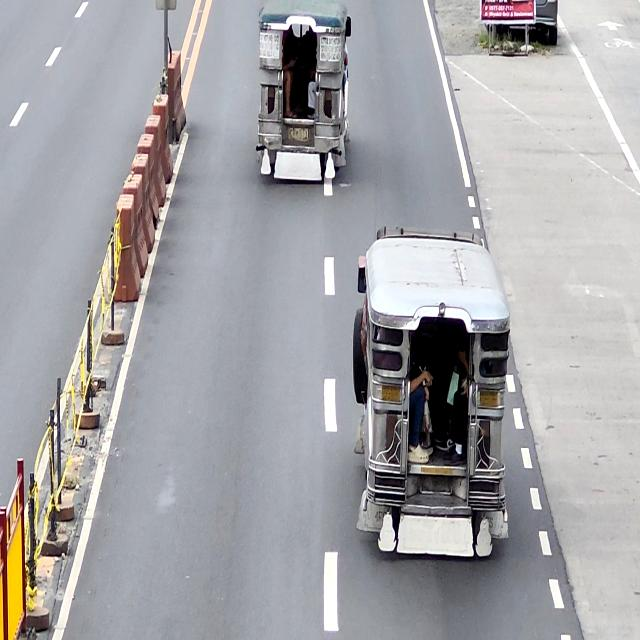Jeep: (349, 223, 512, 552), (258, 0, 352, 180)
License-Plate: (421, 476, 452, 495), (287, 126, 309, 140)
